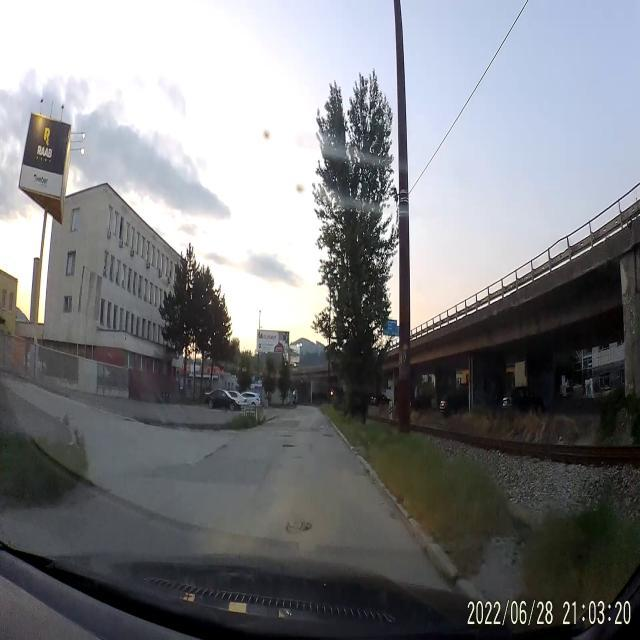Pothole: (283, 514, 314, 540), (280, 442, 298, 448), (278, 433, 292, 439), (388, 512, 396, 521), (323, 433, 335, 438)
